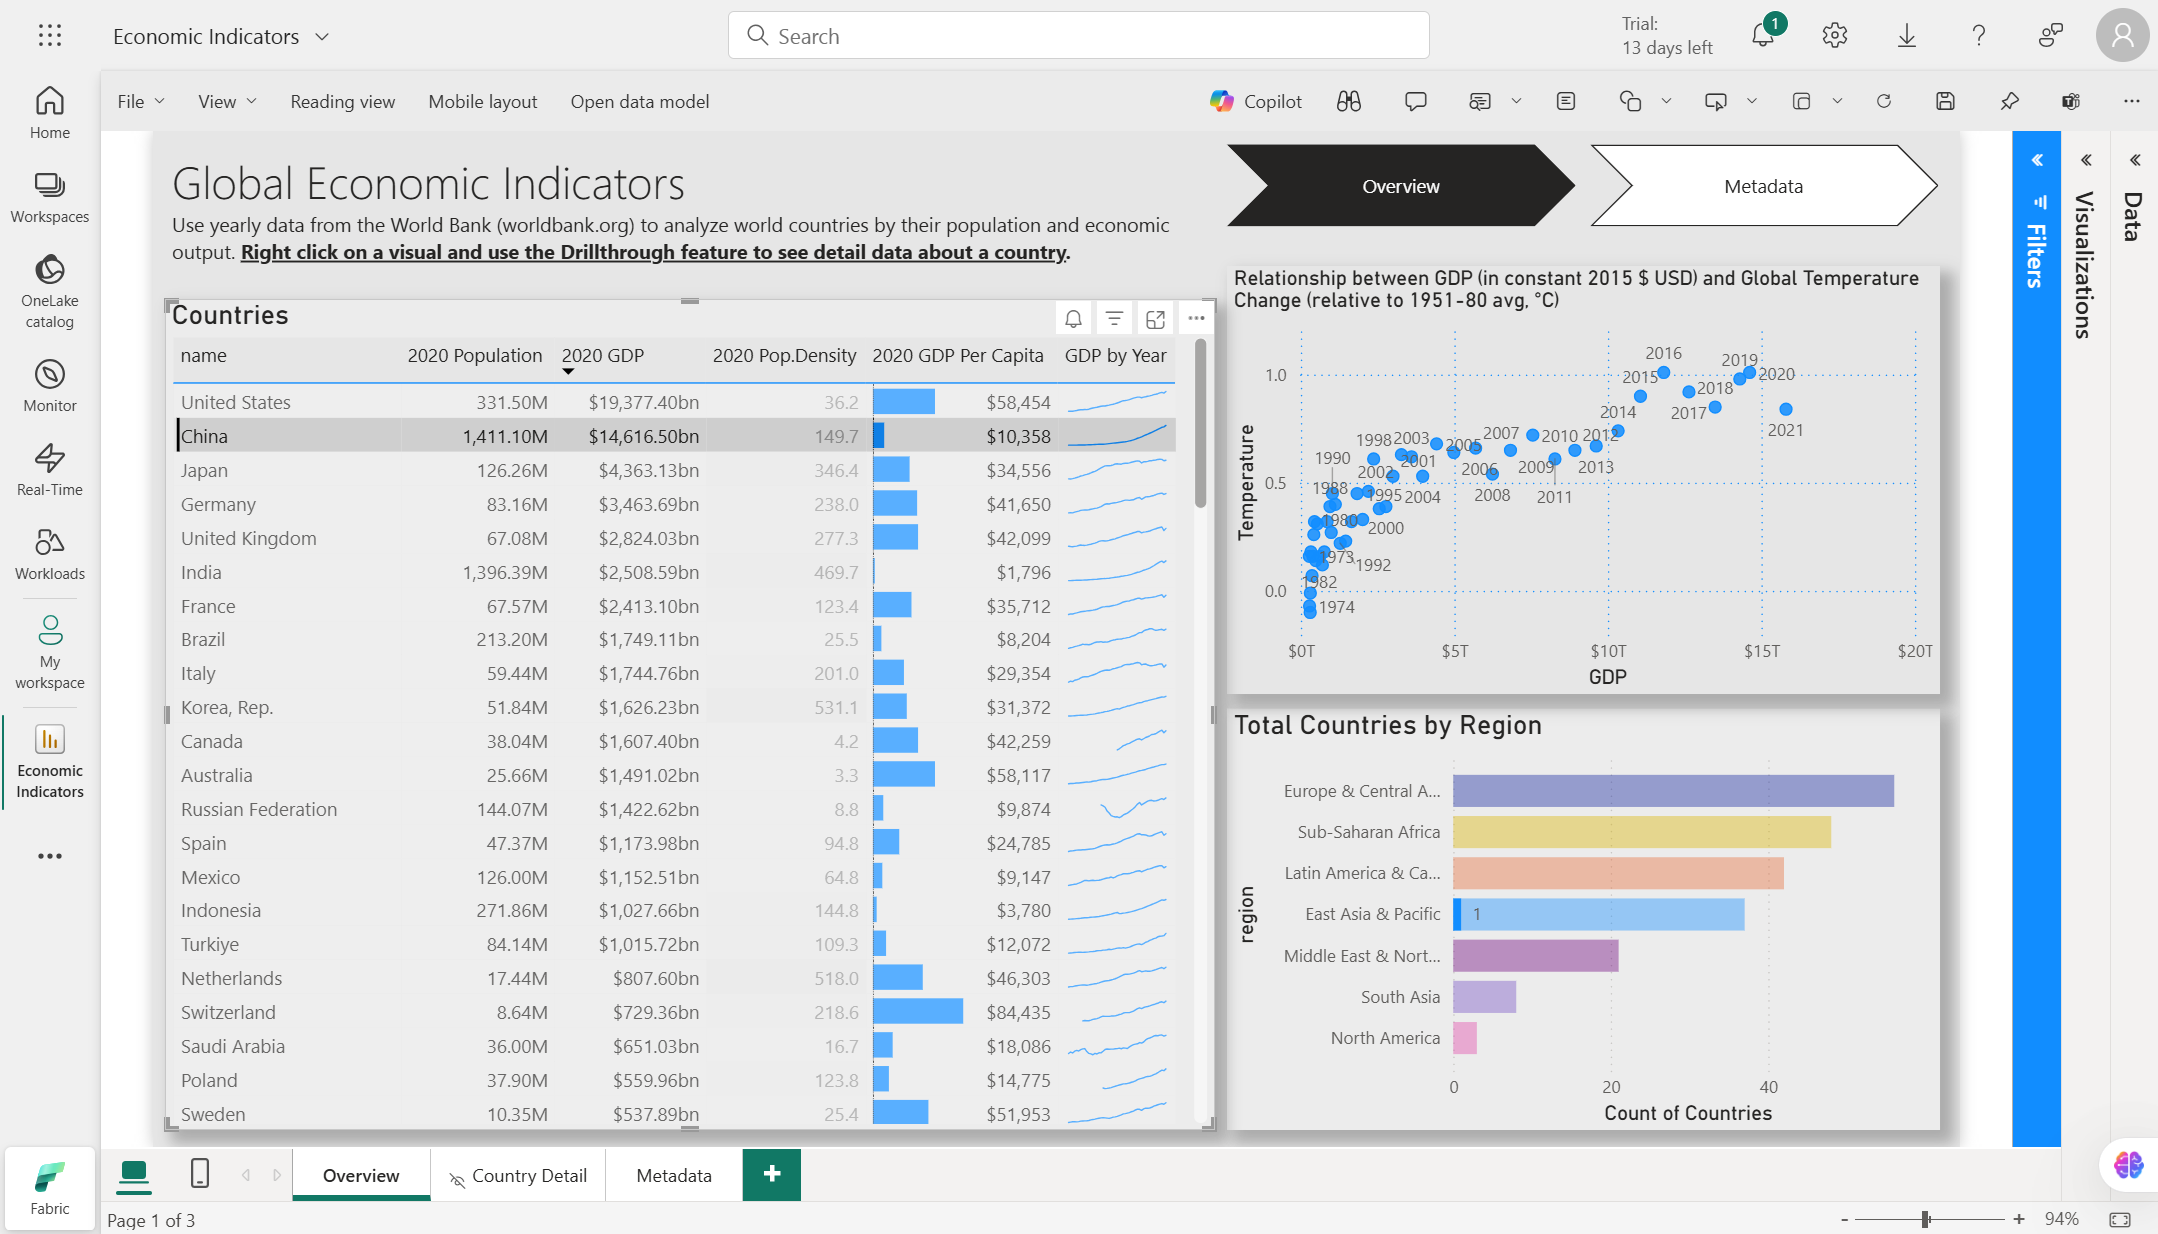

This screenshot's page, from the dashboard's own definition file:
{"tool":"powerbi","page":{"name":"Overview","canvas":[1280,720],"ordinal":0},"visuals":[{"type":"tableEx","title":"Countries","fields":{"Values":["Countries.name","_Measures.2020 Population","_Measures.2020 GDP","_Measures.2020 Pop.Density","_Measures.2020 GDP Per Capita","SparklineData(_Measures.GDP_[Indicators.Year])"]},"box":[8.9,118.9,743.3,588.9],"z":0},{"type":"clusteredBarChart","title":"Total Countries by Region","fields":{"Category":["Countries.region"],"Y":["Count(Countries)"]},"box":[761.1,408.9,505.6,298.9],"z":1000},{"type":"pageNavigator","box":[760.9,9.4,505.2,58.2],"z":2000},{"type":"textbox","box":[8.9,8.9,743.3,100],"z":3000},{"type":"scatterChart","title":"Relationship between GDP (in constant 2015 $ USD) and Global Temperature Change (relative to 1951-80 avg, °C)","fields":{"Category":["Year.Year"],"X":["_Measures.GDP"],"Y":["_Measures.Temperature"]},"box":[760.9,95.6,505.2,303.5],"z":4000}]}

Visuals, with their boxes on the page's 1280x720 design canvas (x1, y1, x2, y2). These are canvas units, not pixel positions in the 2158x1234 screenshot, which may show the page scaled, cropped or inside an application window:
"Countries" tableEx: 9/119/752/708
"Total Countries by Region" clusteredBarChart: 761/409/1267/708
pageNavigator: 761/9/1266/68
textbox: 9/9/752/109
"Relationship between GDP (in constant 2015 $ USD) and Global Temperature Change (relative to 1951-80 avg, °C)" scatterChart: 761/96/1266/399
